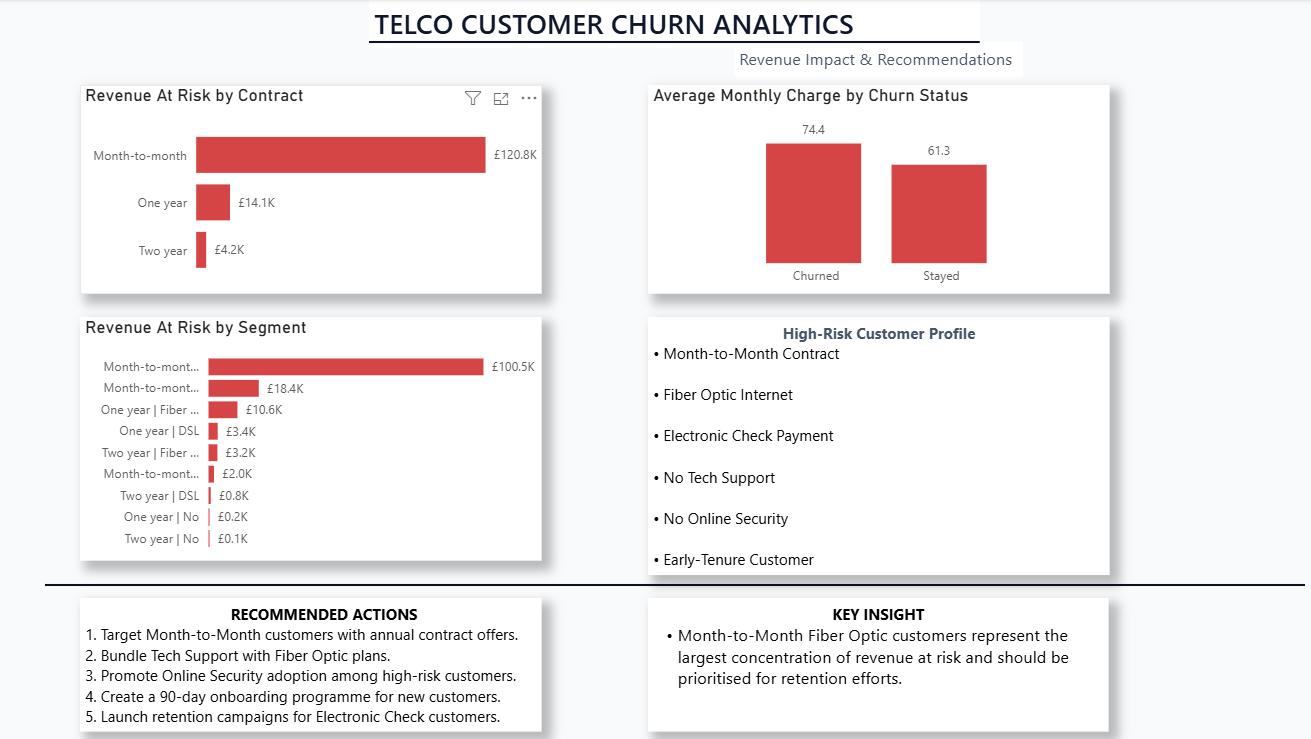

The dashboard page shown, as its layout file describes it:
{"tool":"powerbi","page":{"name":"Revenue Impact & Recommendations","canvas":[1280,720],"ordinal":2},"visuals":[{"type":"textbox","box":[358.9,0,594.3,47.7],"z":0},{"type":"textbox","box":[713.9,41.8,281.1,34],"z":1000},{"type":"shape","box":[358.9,24.3,594.3,35],"z":2000},{"type":"clusteredBarChart","title":"Revenue At Risk by Contract","fields":{"Y":["Measures (2).Revenue At Risk"],"Category":["telco_customers.Contract"]},"box":[77.8,83.6,449.4,203.3],"z":3000},{"type":"clusteredBarChart","title":"Revenue At Risk by Segment","fields":{"Category":["telco_customers.Segment"],"Y":["Measures (2).Revenue At Risk"]},"box":[77.8,309.3,449.4,237.3],"z":4000},{"type":"clusteredColumnChart","title":"Average Monthly Charge by Churn Status","fields":{"Y":["Measures (2).Avg Monthly Charge"],"Category":["telco_customers.Churn Status"]},"box":[630.3,83.6,449.4,203.3],"z":5000},{"type":"textbox","box":[630.3,309.3,449.4,250.9],"z":6000},{"type":"textbox","box":[77.8,582.6,449.4,130.3],"z":7000},{"type":"textbox","box":[630.3,582.6,448.4,130.3],"z":8000},{"type":"shape","box":[43.8,560.2,1225.5,19.5],"z":9000}]}

Visuals, with their boxes in screenshot pixels (x1, y1, x2, y2), scaled from the page's 1280x720 canvas onto the 1311x739 screenshot:
textbox: {"left": 368, "top": 0, "right": 976, "bottom": 49}
textbox: {"left": 731, "top": 43, "right": 1019, "bottom": 78}
shape: {"left": 368, "top": 25, "right": 976, "bottom": 61}
"Revenue At Risk by Contract" clusteredBarChart: {"left": 80, "top": 86, "right": 540, "bottom": 294}
"Revenue At Risk by Segment" clusteredBarChart: {"left": 80, "top": 317, "right": 540, "bottom": 561}
"Average Monthly Charge by Churn Status" clusteredColumnChart: {"left": 646, "top": 86, "right": 1106, "bottom": 294}
textbox: {"left": 646, "top": 317, "right": 1106, "bottom": 575}
textbox: {"left": 80, "top": 598, "right": 540, "bottom": 732}
textbox: {"left": 646, "top": 598, "right": 1105, "bottom": 732}
shape: {"left": 45, "top": 575, "right": 1300, "bottom": 595}
